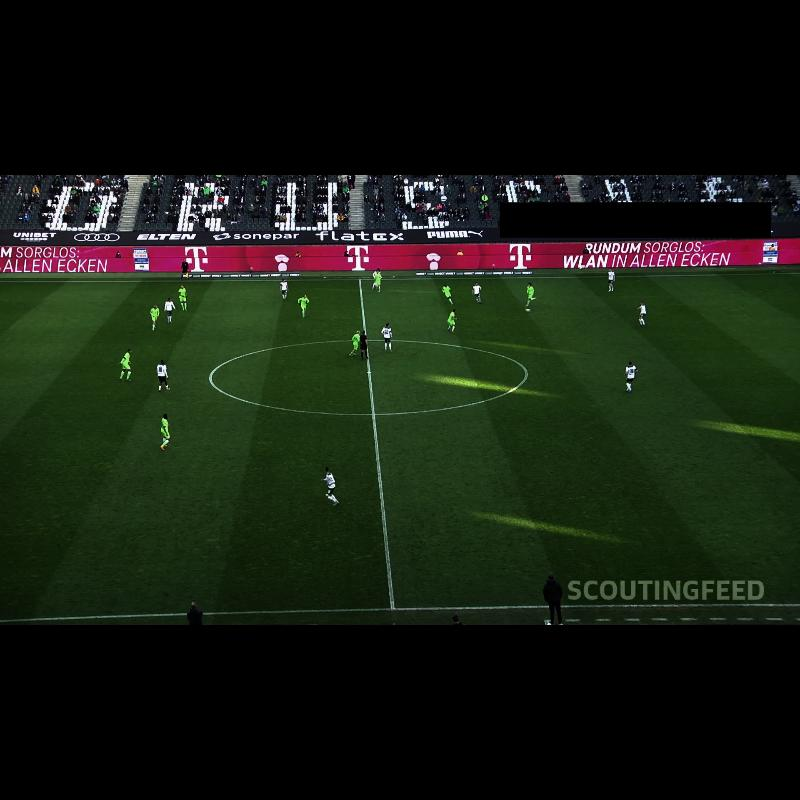crossing_player_zone: (683, 273, 800, 310)
pitch: (0, 271, 800, 621)
